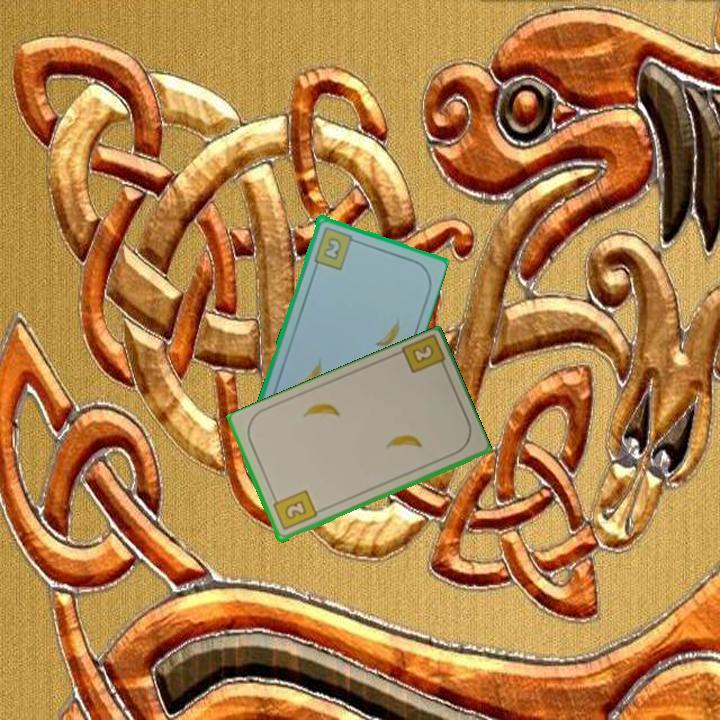2b: (310, 223, 360, 272), (269, 487, 320, 533), (397, 333, 450, 377)
